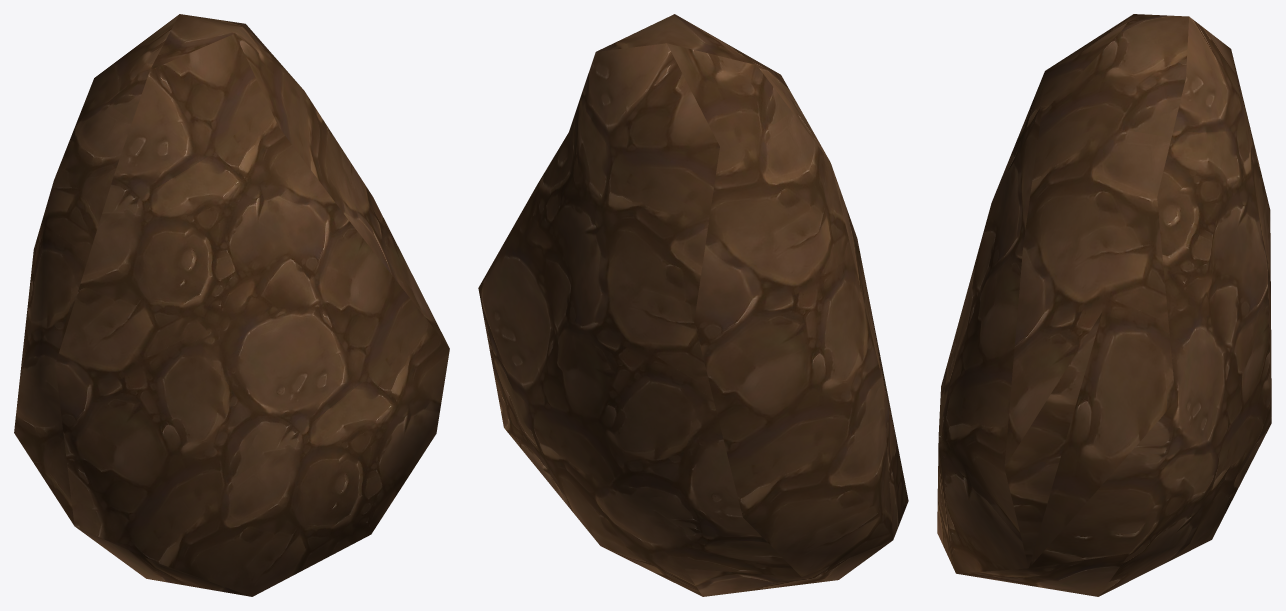
Rendered from oi_rockBoulder_01.fbx.
The picture shows the model from 3 angles, left to right: view 1: azimuth 30°, elevation 25°; view 2: azimuth 150°, elevation 25°; view 3: azimuth 270°, elevation 25°; orthographic projection. The views are drawn at different scales.
Parts seen in each view (by area): view 1: rockBoulder_01; view 2: rockBoulder_01; view 3: rockBoulder_01.
Part boxes in pixels (x1=…): rockBoulder_01: x1=14, y1=14, x2=449, y2=596; rockBoulder_01: x1=478, y1=14, x2=908, y2=596; rockBoulder_01: x1=937, y1=14, x2=1271, y2=596.
Bounding box in the file's own units: 288 × 393 × 210.
Materials: 1 (1 with a texture image).
